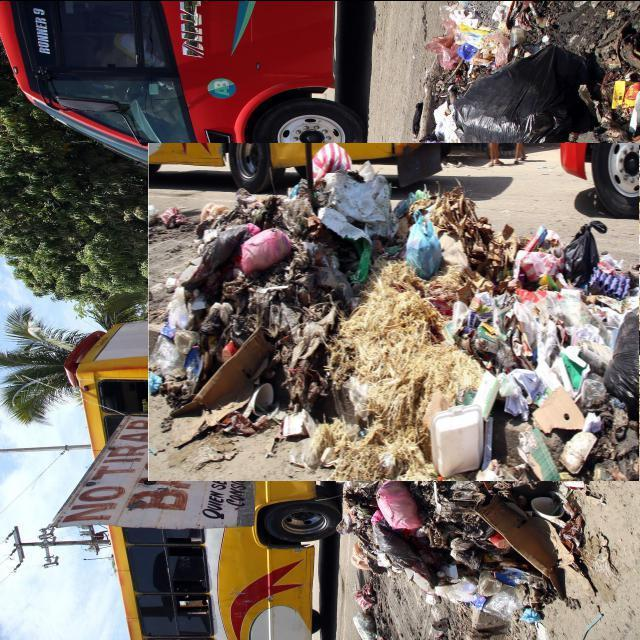Anorganik: (218, 70, 639, 551)
